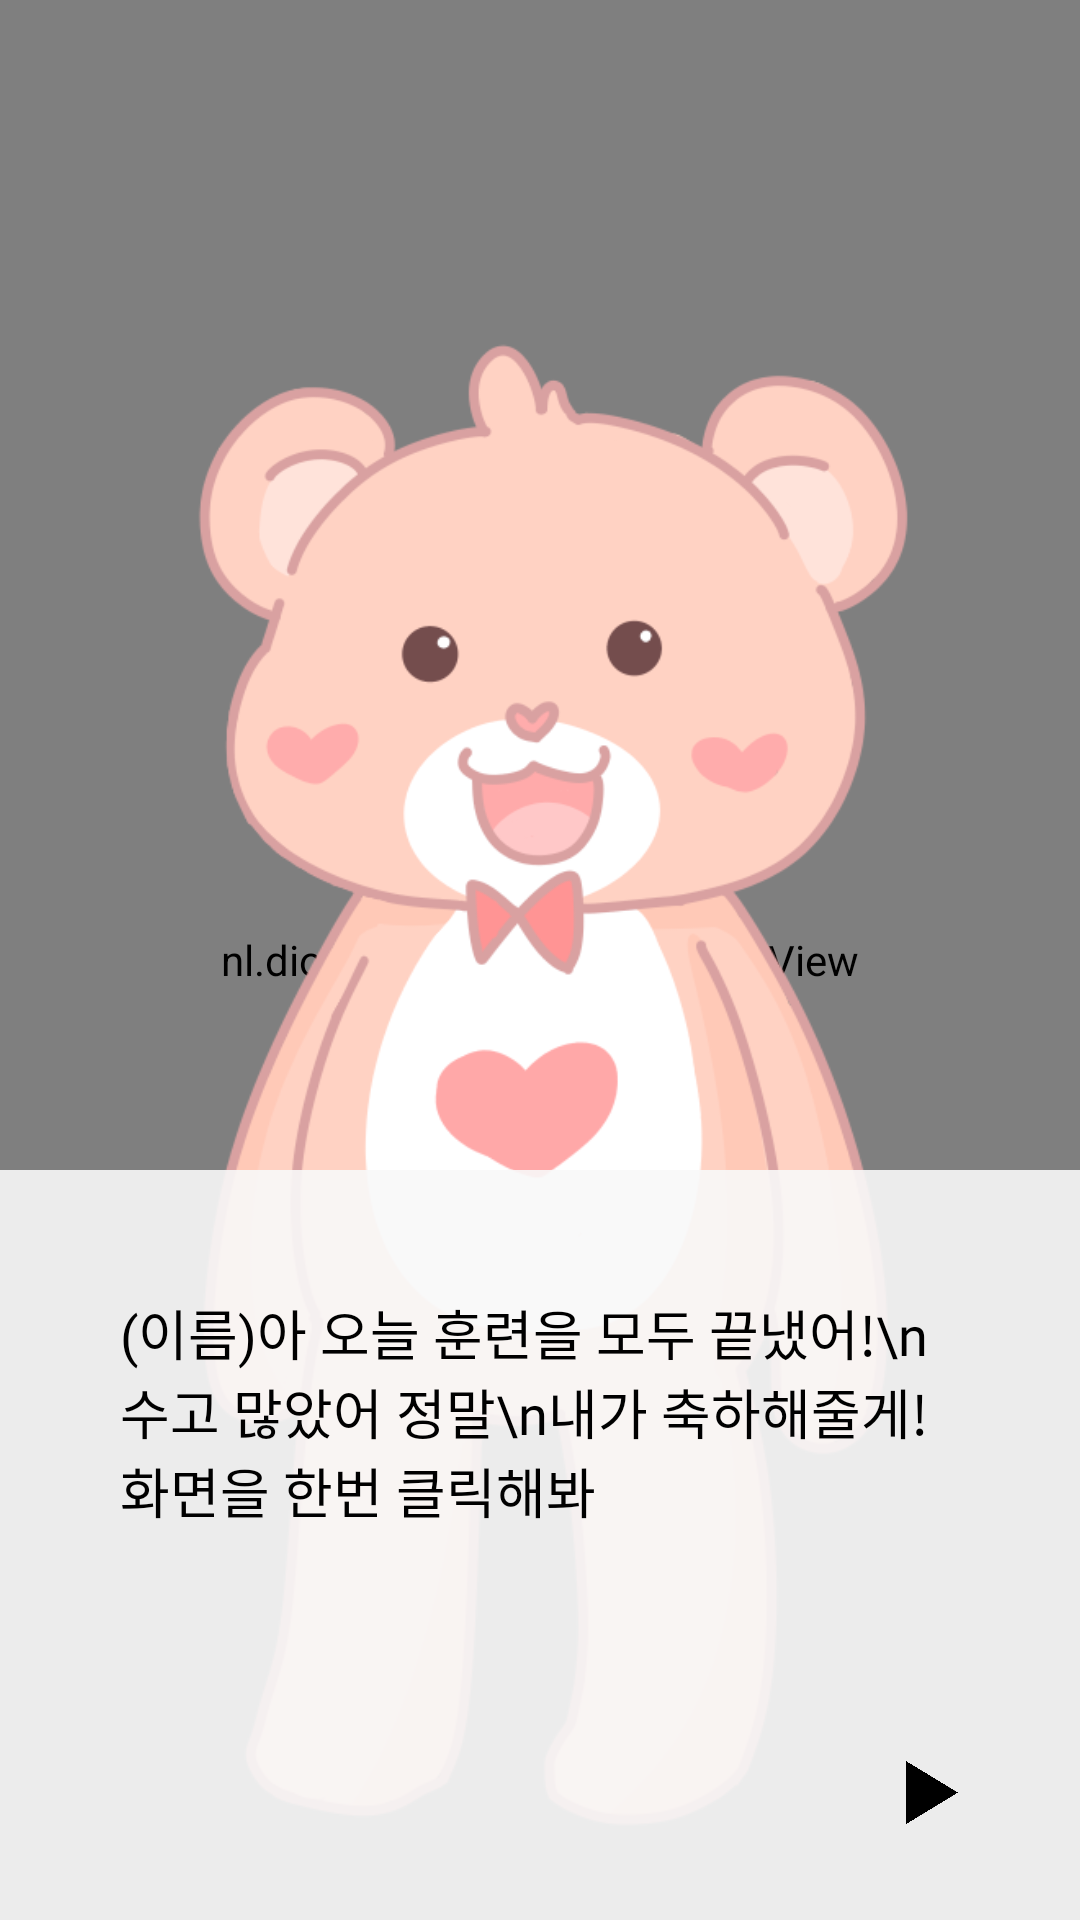

Named icons in this screenshot (1080×1920) and their bounding boxes, (x1, y1, x2, y2):
noun triangle: (906, 1761, 958, 1824)
